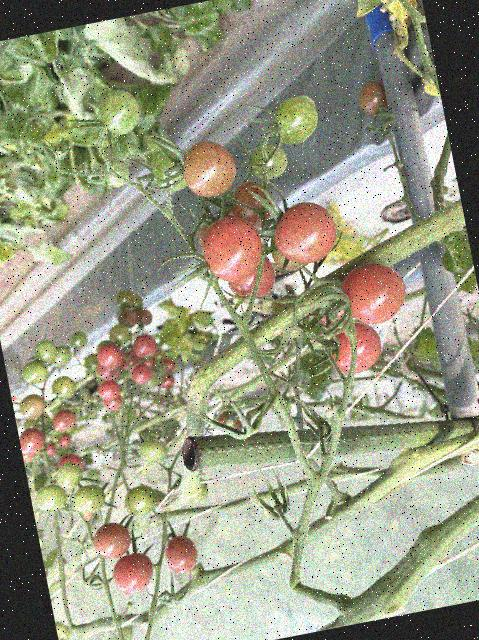l_fully_ripened: (195, 211, 266, 286), (337, 257, 410, 329), (268, 197, 341, 269), (322, 317, 385, 378), (224, 178, 276, 232), (223, 254, 278, 303), (108, 550, 155, 596), (87, 518, 132, 562), (161, 533, 200, 576)
l_green: (268, 93, 321, 147), (94, 86, 143, 137), (147, 145, 190, 195), (247, 141, 289, 182), (121, 483, 157, 518), (69, 482, 105, 515), (33, 481, 67, 514), (98, 158, 130, 189), (135, 434, 167, 464), (52, 460, 82, 491)
l_half_ripened: (177, 136, 239, 200)
